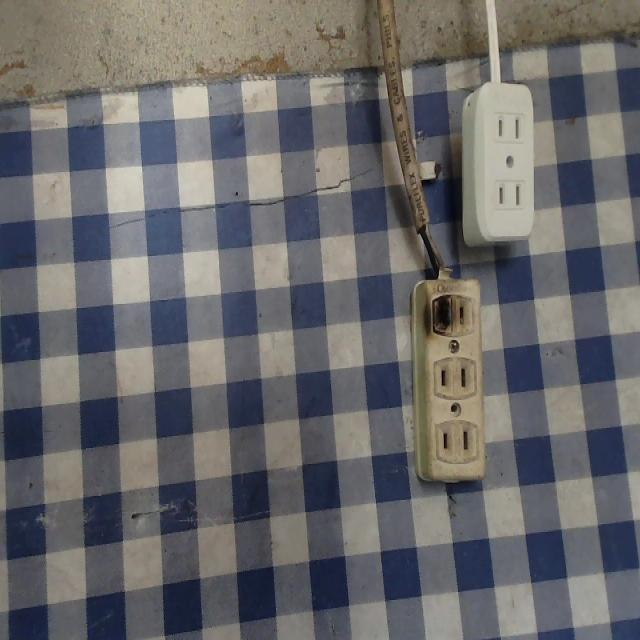-: (422, 283, 461, 349)
